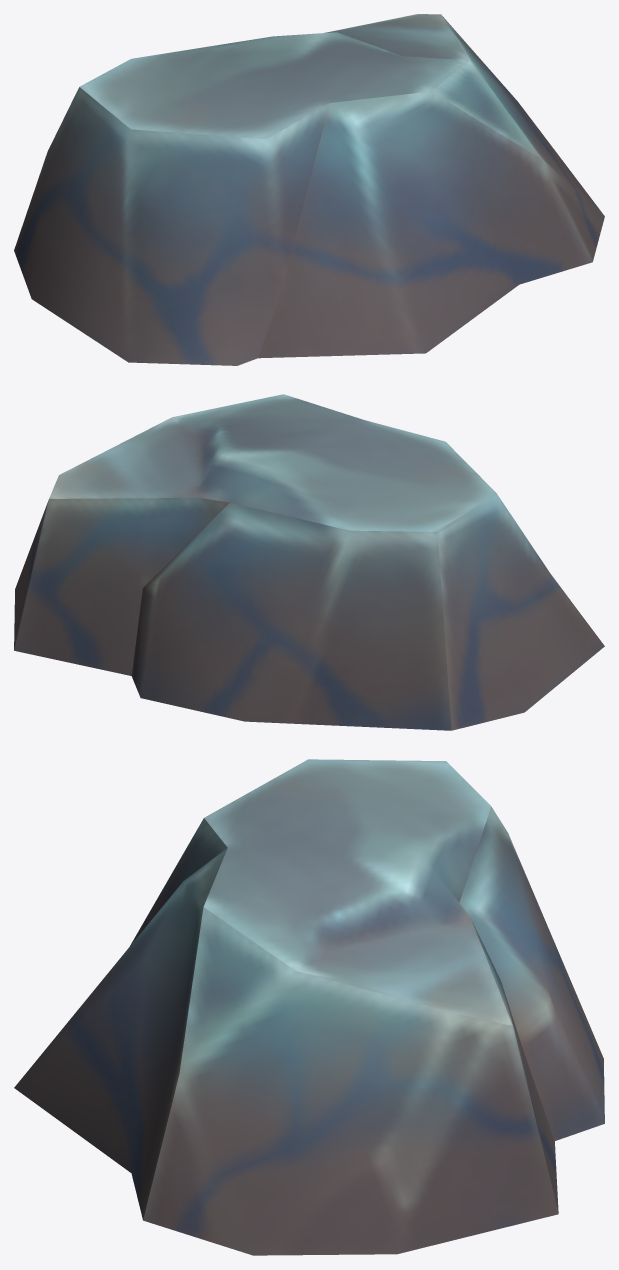
Rendered from field_rocks_iron_04.fbx.
3 views of the same model, one above another, from view 1: azimuth 30°, elevation 25°; view 2: azimuth 150°, elevation 25°; view 3: azimuth 270°, elevation 25° (orthographic). The views are drawn at different scales.
Parts seen in each view (by area): view 1: field_rocks_iron_04; view 2: field_rocks_iron_04; view 3: field_rocks_iron_04.
Part boxes in pixels (box(x1,y1,x2,y2)): field_rocks_iron_04: box(14, 14, 604, 365); field_rocks_iron_04: box(14, 394, 604, 730); field_rocks_iron_04: box(14, 759, 604, 1255).
Bounding box in the file's own units: 73.98 × 26.47 × 59.42.
